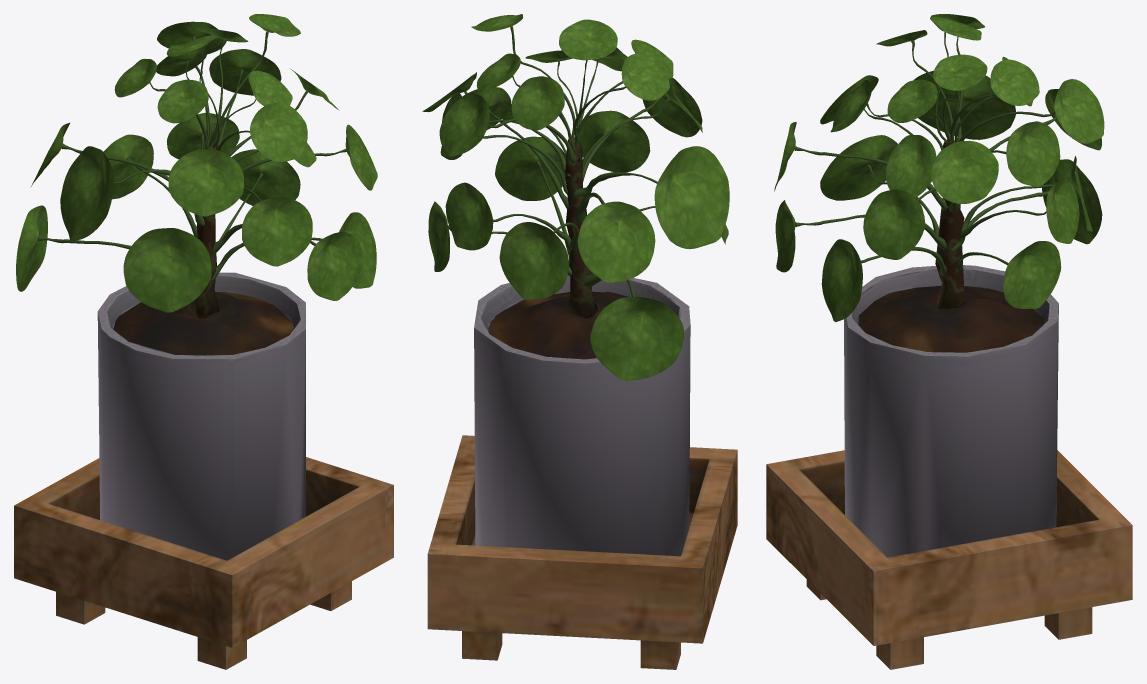
The model's file is plant-potted-tree.glb.
3 renders of one model, left to right at view 1: azimuth 30°, elevation 25°; view 2: azimuth 150°, elevation 25°; view 3: azimuth 270°, elevation 25°, orthographic. The views are drawn at different scales.
Parts seen in each view (by area): view 1: Circle.003, Plane.005, Exotic Plant Leaf 2_Diffuse_Map_2K.044_Exotic Plant Leaf 2_D, Exotic Plant Leaf 2_Diffuse_Map_2K.037_Exotic Plant Leaf 2_D, Exotic Plant Leaf 2_Diffuse_Map_2K.043_Exotic Plant Leaf 2_D, Exotic Plant Leaf 2_Diffuse_Map_2K.051_Exotic Plant Leaf 2_D, Exotic Plant Leaf 2_Diffuse_Map_2K.048_Exotic Plant Leaf 2_D, Exotic Plant Leaf 2_Diffuse_Map_2K.036_Exotic Plant Leaf 2_D, Exotic Plant Leaf 2_Diffuse_Map_2K.045_Exotic Plant Leaf 2_D, Exotic Plant Leaf 2_Diffuse_Map_2K.049_Exotic Plant Leaf 2_D, Exotic Plant Leaf 2_Diffuse_Map_2K.039_Exotic Plant Leaf 2_D, Exotic Plant Leaf 2_Diffuse_Map_2K.047_Exotic Plant Leaf 2_D (+10 smaller); view 2: Circle.003, Plane.005, Exotic Plant Leaf 2_Diffuse_Map_2K.047_Exotic Plant Leaf 2_D, Exotic Plant Leaf 2_Diffuse_Map_2K.051_Exotic Plant Leaf 2_D, Exotic Plant Leaf 2_Diffuse_Map_2K.041_Exotic Plant Leaf 2_D, Exotic Plant Leaf 2_Diffuse_Map_2K.049_Exotic Plant Leaf 2_D, Exotic Plant Leaf 2_Diffuse_Map_2K.048_Exotic Plant Leaf 2_D, Exotic Plant Leaf 2_Diffuse_Map_2K.046_Exotic Plant Leaf 2_D, Cube, Exotic Plant Leaf 2_Diffuse_Map_2K.050_Exotic Plant Leaf 2_D, Exotic Plant Leaf 2_Diffuse_Map_2K.035_Exotic Plant Leaf 2_D, Exotic Plant Leaf 2_Diffuse_Map_2K.028_Exotic Plant Leaf 2_D (+10 smaller); view 3: Circle.003, Plane.005, Exotic Plant Leaf 2_Diffuse_Map_2K.040_Exotic Plant Leaf 2_D, Exotic Plant Leaf 2_Diffuse_Map_2K.038_Exotic Plant Leaf 2_D, Exotic Plant Leaf 2_Diffuse_Map_2K.044_Exotic Plant Leaf 2_D, Exotic Plant Leaf 2_Diffuse_Map_2K.051_Exotic Plant Leaf 2_D, Exotic Plant Leaf 2_Diffuse_Map_2K.045_Exotic Plant Leaf 2_D, Exotic Plant Leaf 2_Diffuse_Map_2K.039_Exotic Plant Leaf 2_D, Exotic Plant Leaf 2_Diffuse_Map_2K.046_Exotic Plant Leaf 2_D, Exotic Plant Leaf 2_Diffuse_Map_2K.035_Exotic Plant Leaf 2_D, Exotic Plant Leaf 2_Diffuse_Map_2K.042_Exotic Plant Leaf 2_D, Cube (+9 smaller).
Part boxes in pixels (x1=…): Circle.003: x1=97, y1=272, x2=305, y2=560; Plane.005: x1=14, y1=457, x2=393, y2=669; Exotic Plant Leaf 2_Diffuse_Map_2K.044_Exotic Plant Leaf 2_D: x1=123, y1=228, x2=211, y2=312; Exotic Plant Leaf 2_Diffuse_Map_2K.037_Exotic Plant Leaf 2_D: x1=168, y1=149, x2=244, y2=216; Exotic Plant Leaf 2_Diffuse_Map_2K.043_Exotic Plant Leaf 2_D: x1=242, y1=197, x2=312, y2=266; Exotic Plant Leaf 2_Diffuse_Map_2K.051_Exotic Plant Leaf 2_D: x1=60, y1=146, x2=113, y2=241; Exotic Plant Leaf 2_Diffuse_Map_2K.048_Exotic Plant Leaf 2_D: x1=307, y1=231, x2=361, y2=300; Exotic Plant Leaf 2_Diffuse_Map_2K.036_Exotic Plant Leaf 2_D: x1=250, y1=102, x2=307, y2=161; Exotic Plant Leaf 2_Diffuse_Map_2K.045_Exotic Plant Leaf 2_D: x1=231, y1=149, x2=300, y2=205; Exotic Plant Leaf 2_Diffuse_Map_2K.049_Exotic Plant Leaf 2_D: x1=103, y1=134, x2=153, y2=199; Exotic Plant Leaf 2_Diffuse_Map_2K.039_Exotic Plant Leaf 2_D: x1=209, y1=49, x2=281, y2=95; Exotic Plant Leaf 2_Diffuse_Map_2K.047_Exotic Plant Leaf 2_D: x1=16, y1=205, x2=47, y2=291; Circle.003: x1=474, y1=273, x2=690, y2=556; Plane.005: x1=427, y1=435, x2=737, y2=669; Exotic Plant Leaf 2_Diffuse_Map_2K.047_Exotic Plant Leaf 2_D: x1=590, y1=297, x2=684, y2=380; Exotic Plant Leaf 2_Diffuse_Map_2K.051_Exotic Plant Leaf 2_D: x1=654, y1=146, x2=729, y2=249; Exotic Plant Leaf 2_Diffuse_Map_2K.041_Exotic Plant Leaf 2_D: x1=577, y1=201, x2=655, y2=282; Exotic Plant Leaf 2_Diffuse_Map_2K.049_Exotic Plant Leaf 2_D: x1=499, y1=222, x2=568, y2=299; Exotic Plant Leaf 2_Diffuse_Map_2K.048_Exotic Plant Leaf 2_D: x1=575, y1=110, x2=650, y2=172; Exotic Plant Leaf 2_Diffuse_Map_2K.046_Exotic Plant Leaf 2_D: x1=495, y1=136, x2=566, y2=200; Cube: x1=565, y1=138, x2=598, y2=318; Exotic Plant Leaf 2_Diffuse_Map_2K.050_Exotic Plant Leaf 2_D: x1=445, y1=182, x2=493, y2=250; Exotic Plant Leaf 2_Diffuse_Map_2K.035_Exotic Plant Leaf 2_D: x1=439, y1=93, x2=489, y2=156; Exotic Plant Leaf 2_Diffuse_Map_2K.028_Exotic Plant Leaf 2_D: x1=511, y1=76, x2=564, y2=130; Circle.003: x1=844, y1=265, x2=1058, y2=557; Plane.005: x1=766, y1=450, x2=1132, y2=669; Exotic Plant Leaf 2_Diffuse_Map_2K.040_Exotic Plant Leaf 2_D: x1=863, y1=189, x2=925, y2=259; Exotic Plant Leaf 2_Diffuse_Map_2K.038_Exotic Plant Leaf 2_D: x1=931, y1=140, x2=998, y2=203; Exotic Plant Leaf 2_Diffuse_Map_2K.044_Exotic Plant Leaf 2_D: x1=820, y1=135, x2=897, y2=200; Exotic Plant Leaf 2_Diffuse_Map_2K.051_Exotic Plant Leaf 2_D: x1=914, y1=70, x2=1015, y2=139; Exotic Plant Leaf 2_Diffuse_Map_2K.045_Exotic Plant Leaf 2_D: x1=1003, y1=241, x2=1061, y2=308; Exotic Plant Leaf 2_Diffuse_Map_2K.039_Exotic Plant Leaf 2_D: x1=1006, y1=121, x2=1060, y2=186; Exotic Plant Leaf 2_Diffuse_Map_2K.046_Exotic Plant Leaf 2_D: x1=821, y1=239, x2=862, y2=321; Exotic Plant Leaf 2_Diffuse_Map_2K.035_Exotic Plant Leaf 2_D: x1=1054, y1=79, x2=1104, y2=143; Exotic Plant Leaf 2_Diffuse_Map_2K.042_Exotic Plant Leaf 2_D: x1=886, y1=134, x2=936, y2=197; Cube: x1=935, y1=139, x2=964, y2=309.
Size of the model in its own units: 0.6464 by 1.16 by 0.6519.
6 materials, 5 textured.
